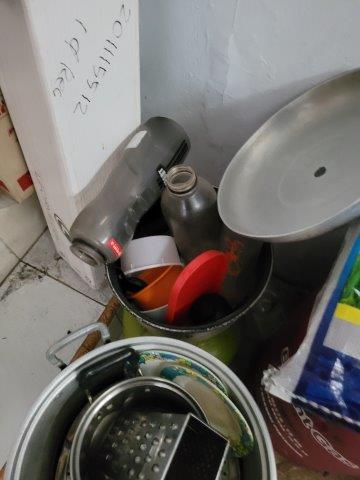botolplastik: (163, 167, 221, 254)
